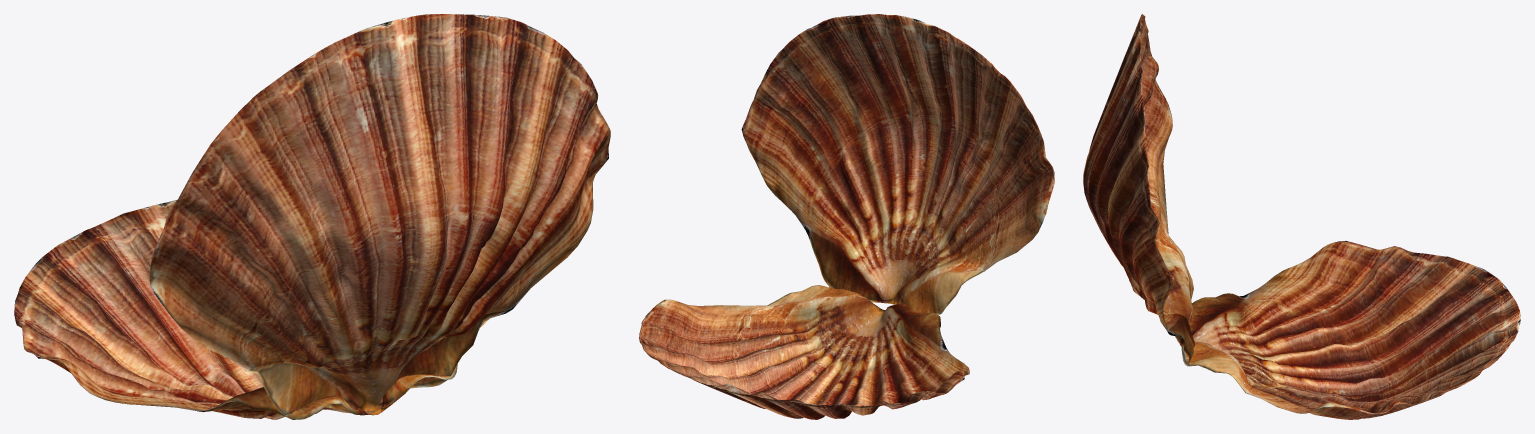
Rendered from sheels to unity.fbx.
The picture shows the model from 3 angles, left to right: view 1: azimuth 30°, elevation 25°; view 2: azimuth 150°, elevation 25°; view 3: azimuth 270°, elevation 25°; orthographic projection. The views are drawn at different scales.
Visible parts, largest first — view 1: Shell_0.001, Shell_0; view 2: Shell_0.001, Shell_0; view 3: Shell_0, Shell_0.001.
Boxes of the visible parts, <box> form: Shell_0.001: <box>149,14,610,415</box>; Shell_0: <box>14,200,488,419</box>; Shell_0.001: <box>741,14,1054,315</box>; Shell_0: <box>639,285,969,419</box>; Shell_0: <box>1181,241,1520,419</box>; Shell_0.001: <box>1083,14,1197,363</box>.
Size of the model in its own units: 148 by 146 by 160.
